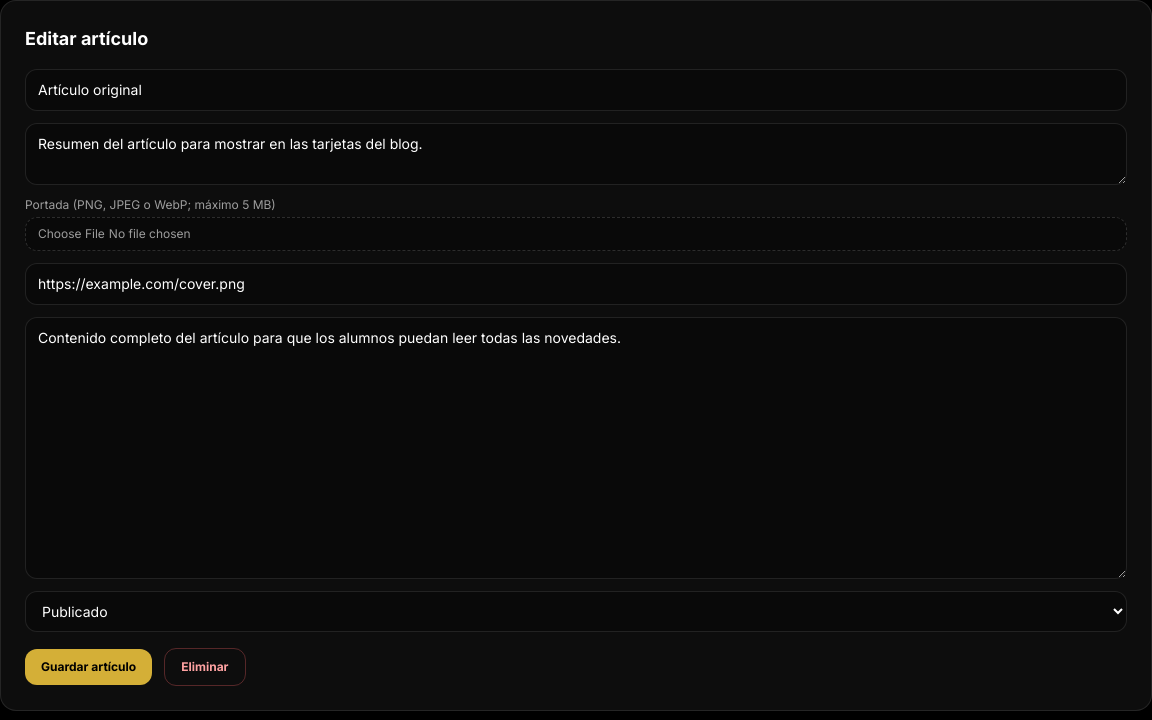
blog admin editor › deletes using the hidden id even when required fields are empty, without React warnings
The width and height of the screenshot is (1152, 720).
Clear the field named "Título" at (576,90), box left=25, top=69, right=1127, bottom=111
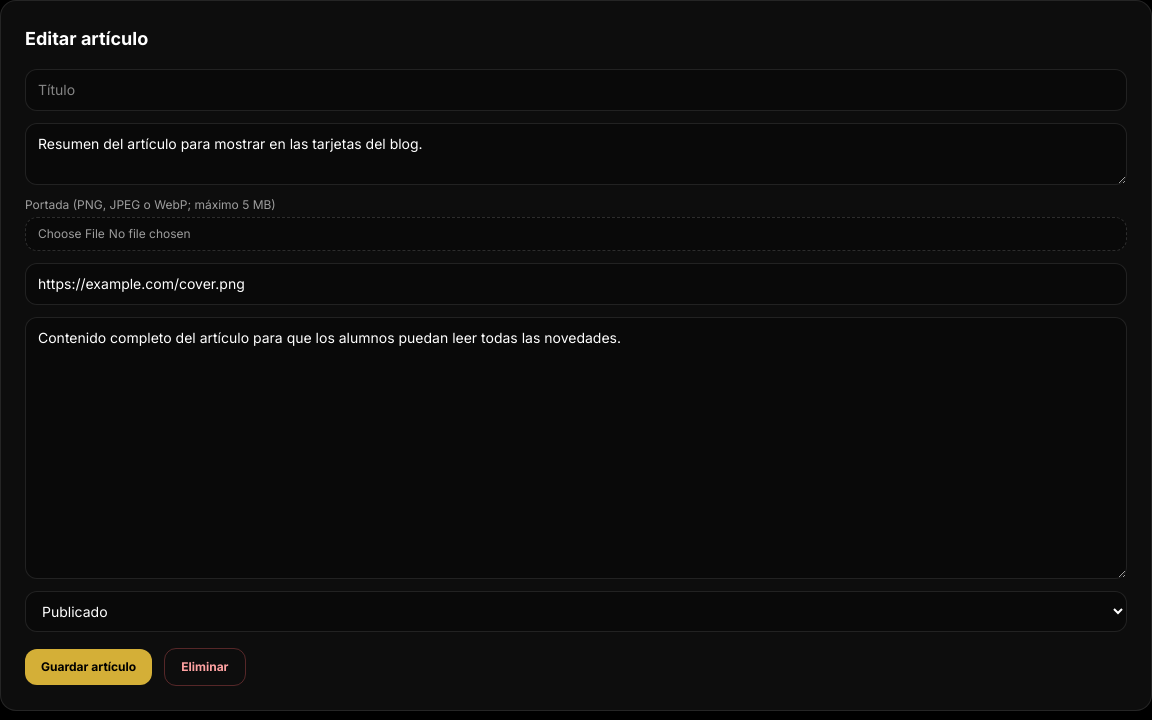
Clear the text box named "Contenido del artículo" at (576,448), box left=25, top=317, right=1127, bottom=579
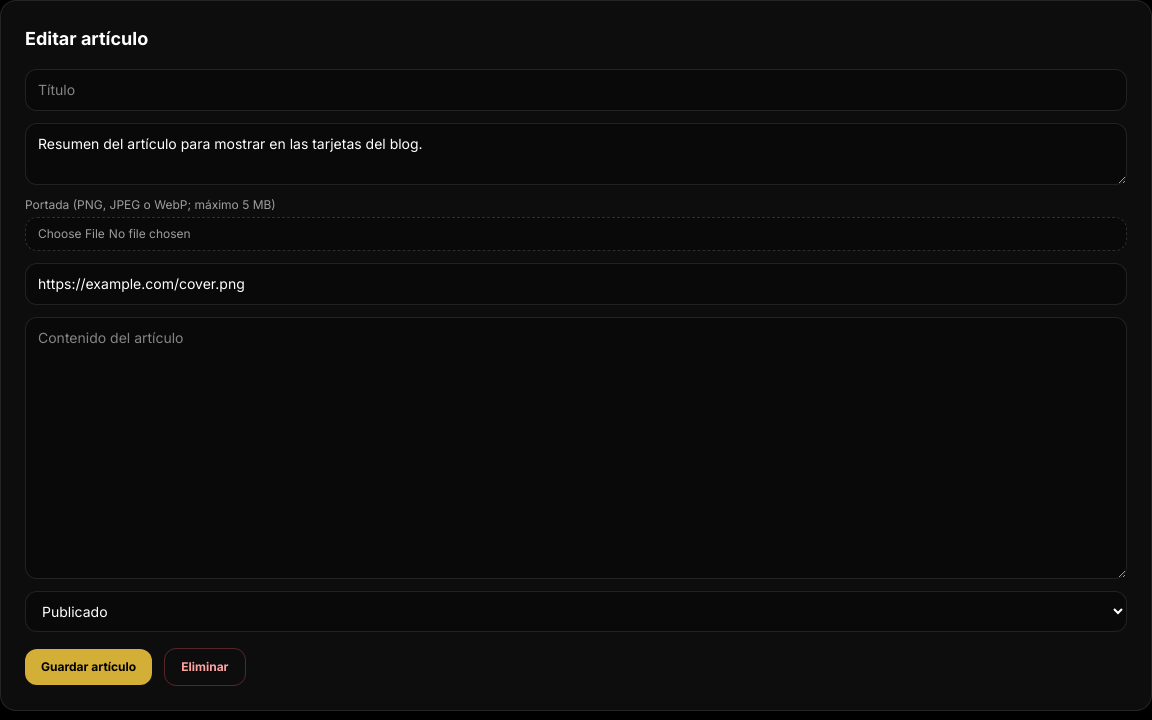
Submit the form
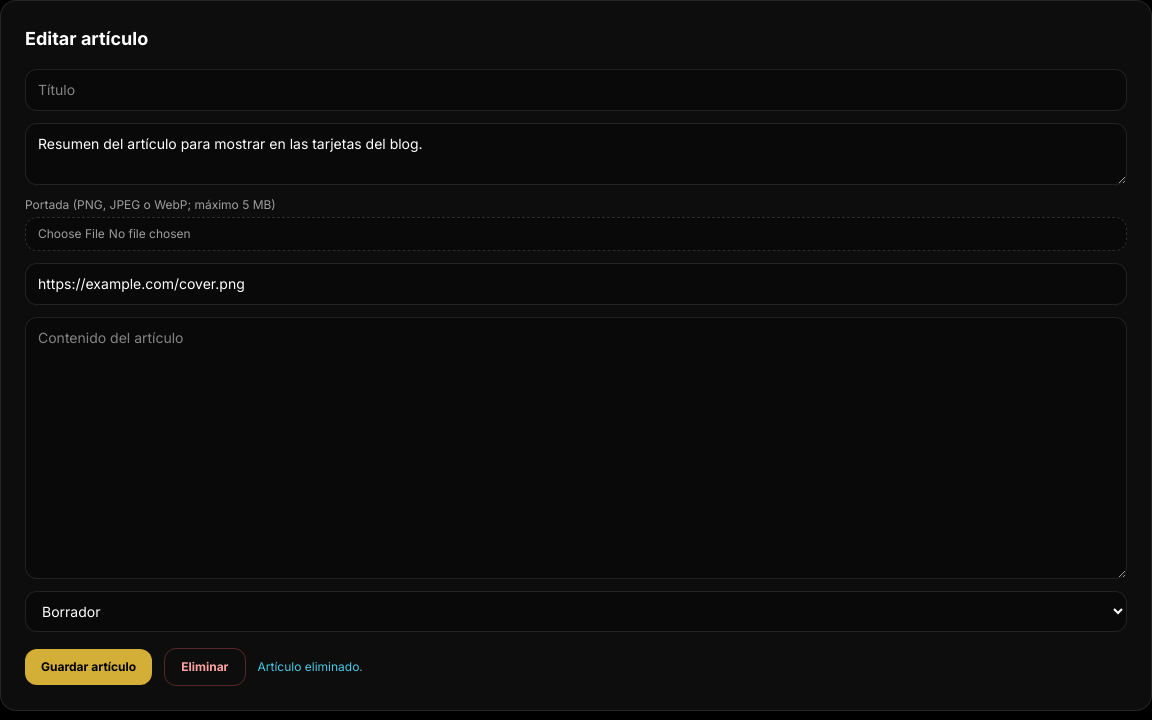
Result: the message reads "Artículo eliminado." at left=258, top=659, right=363, bottom=674
